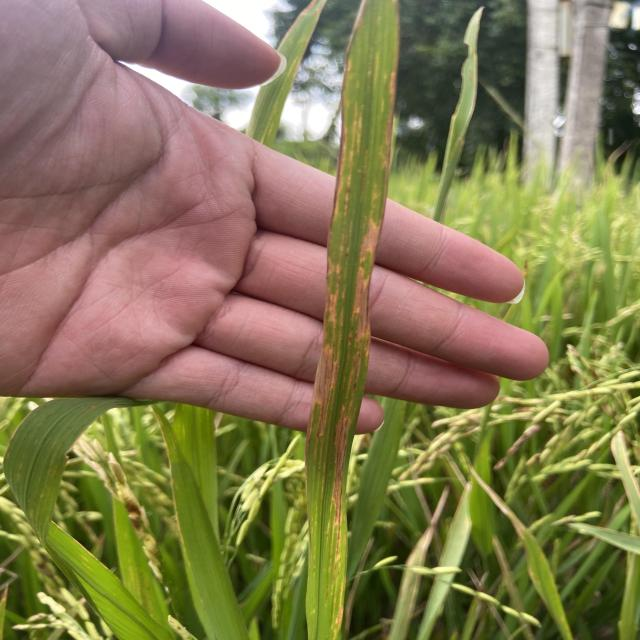Dom soc vi khuan: (342, 212, 383, 411), (325, 403, 352, 600), (323, 152, 353, 329), (360, 151, 368, 202)
